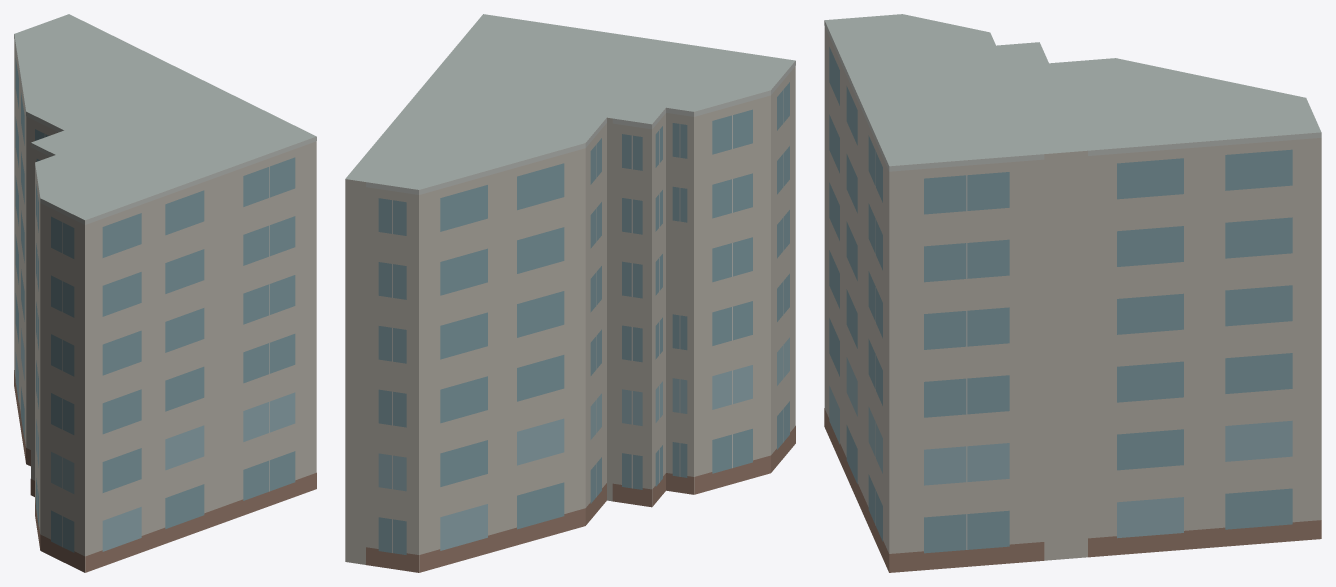
The model's file is survey-upis-32738917.glb.
3 views of the same model, side by side, from view 1: azimuth 30°, elevation 25°; view 2: azimuth 150°, elevation 25°; view 3: azimuth 270°, elevation 25° (orthographic). The views are drawn at different scales.
Visible parts, largest first — view 1: survey-upis-32738917.tmp; view 2: survey-upis-32738917.tmp; view 3: survey-upis-32738917.tmp.
Part boxes in pixels (x1,y1,x2,y2): survey-upis-32738917.tmp: (14, 14, 316, 572); survey-upis-32738917.tmp: (345, 14, 795, 572); survey-upis-32738917.tmp: (824, 14, 1321, 572).
Size of the model in its own units: 14.71 by 18.3 by 20.28.
